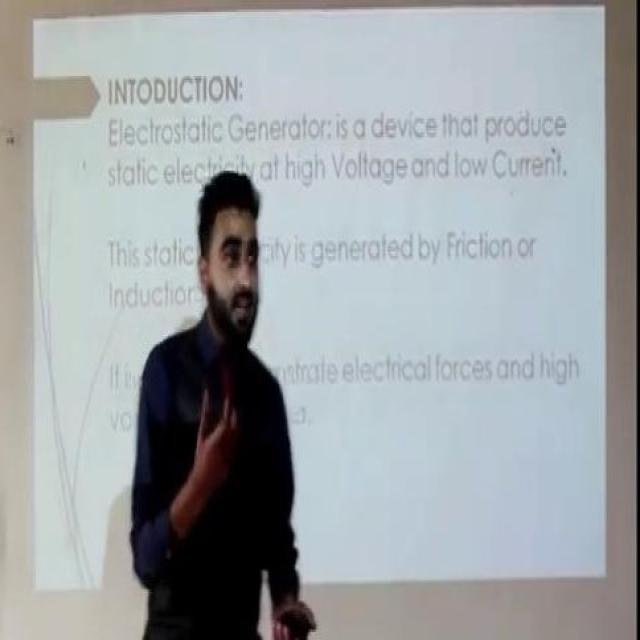Instructor: (144, 167, 316, 623)
Slide: (31, 6, 608, 592)
